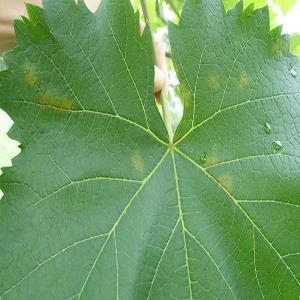Folha: (1, 0, 299, 299)
Fungo: (23, 64, 75, 111), (37, 89, 74, 111), (216, 171, 234, 195), (23, 64, 39, 90), (130, 149, 144, 174), (207, 69, 221, 92), (154, 64, 164, 93), (237, 69, 249, 89), (272, 139, 282, 150), (263, 121, 271, 134), (200, 150, 208, 163), (289, 66, 297, 77)
